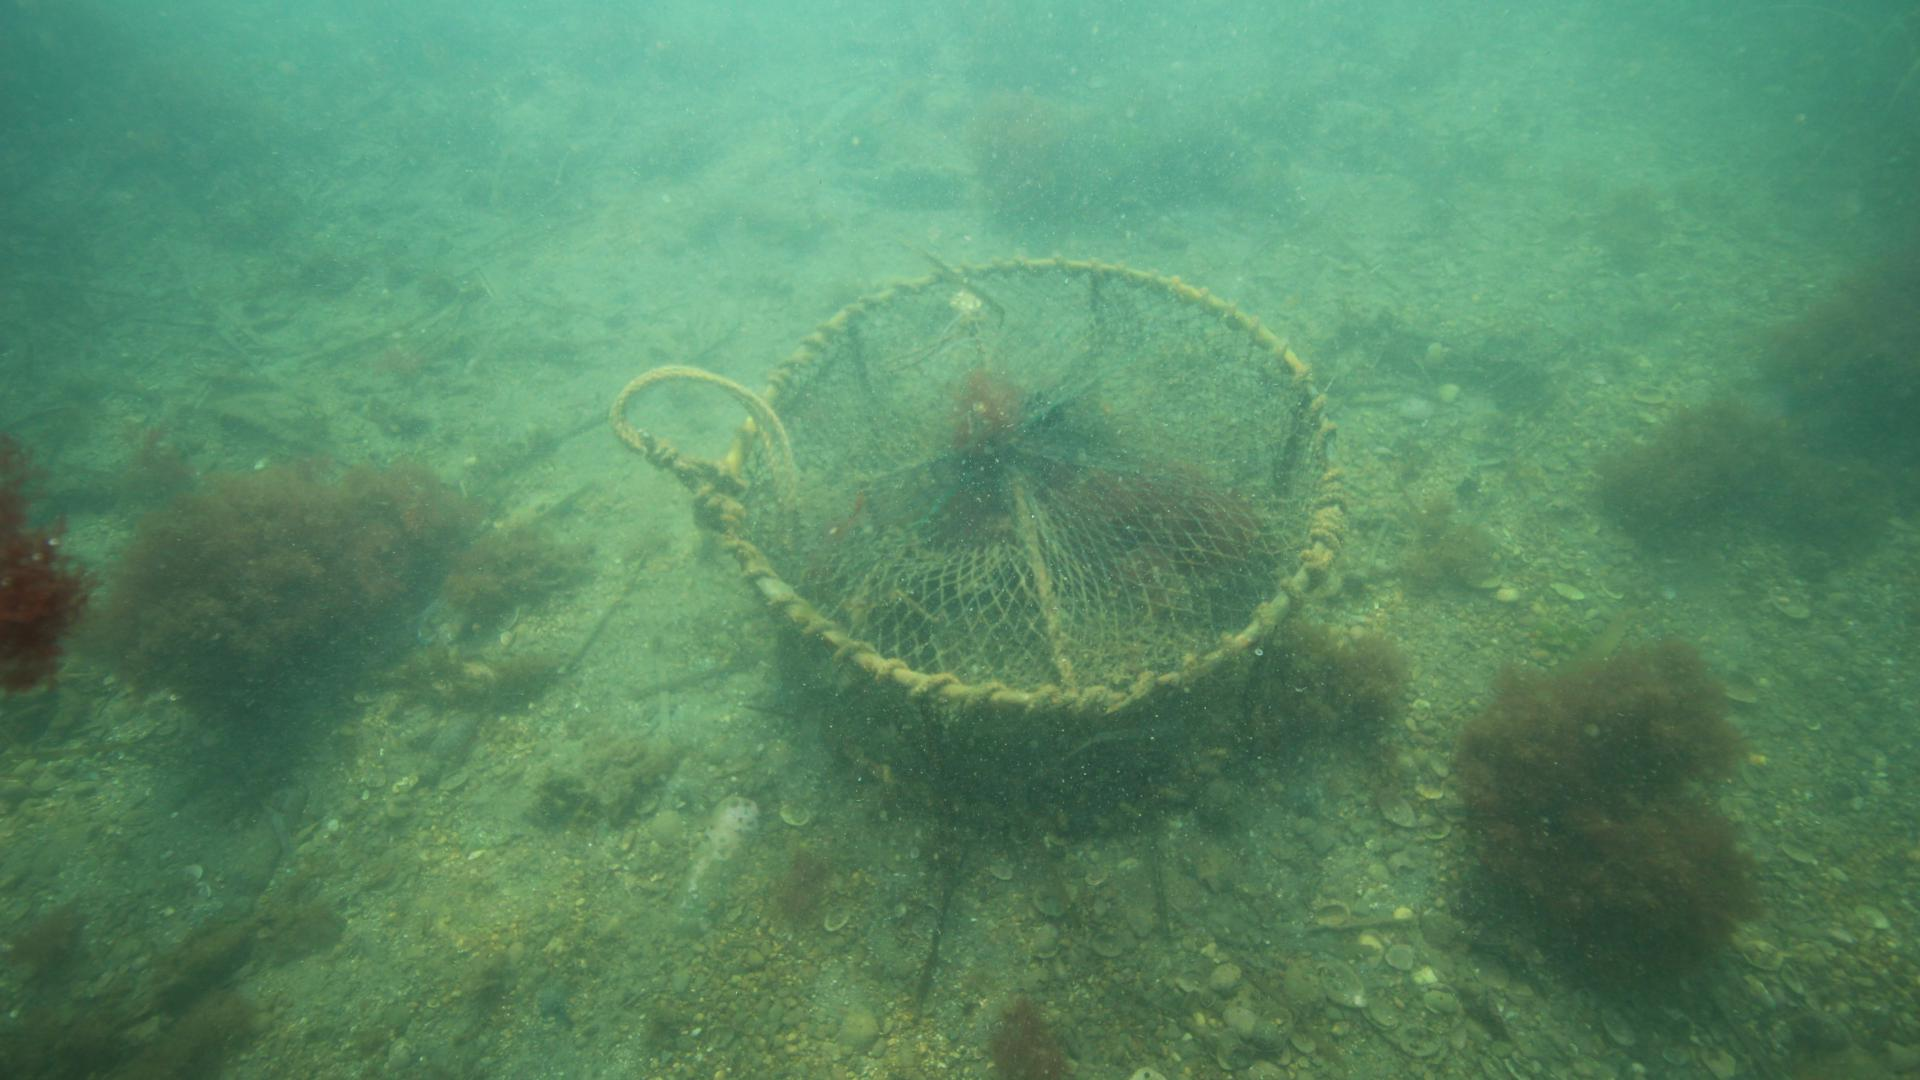bundle of ropes: (607, 363, 799, 512)
circular fish trap: (713, 252, 1346, 833)
